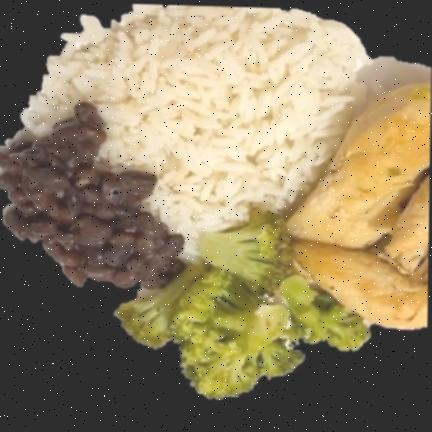beans: (0, 103, 184, 289)
broccoli: (117, 216, 369, 398)
chicken: (288, 84, 431, 329)
rice: (22, 4, 382, 261)
